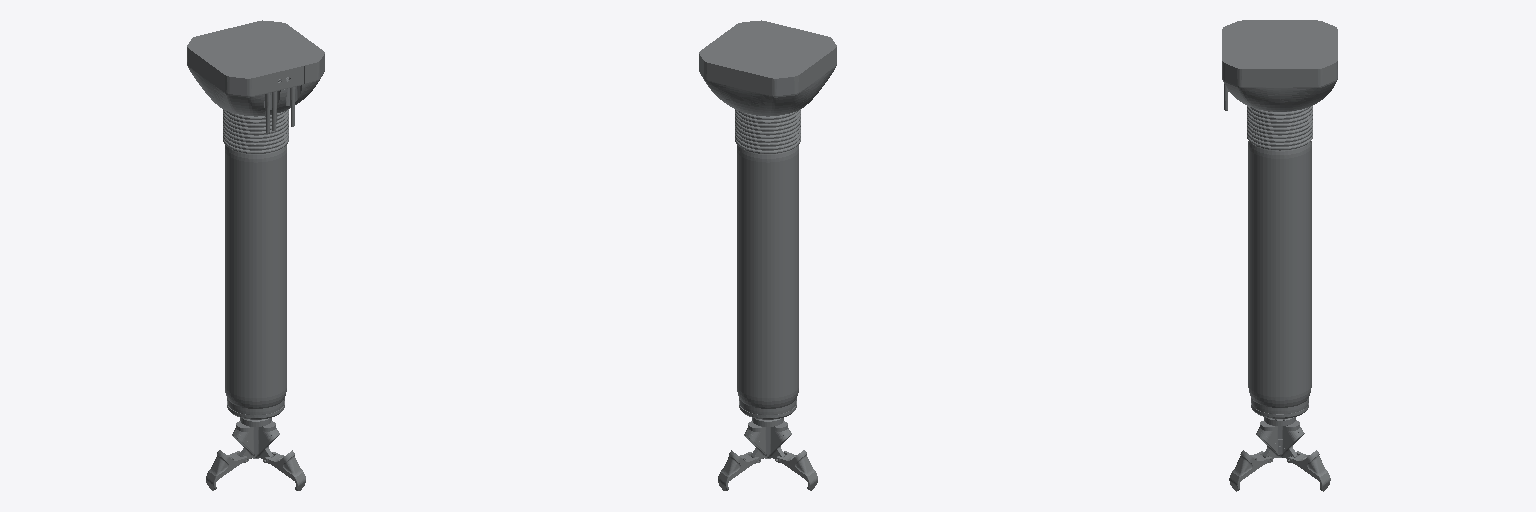
--- What the picture shows (computed from the rendered views, not written in the file) ---
Views: 3 orthographic renders of the robot side by side, from view 1: azimuth 30°, elevation 25°; view 2: azimuth 150°, elevation 25°; view 3: azimuth 270°, elevation 25°.
Model kn800RigidKE with 30 links and 29 joints (22 revolute, 5 prismatic, 2 fixed), rooted at world, posed all joints at 0.
Visible links, largest first — view 1: base_link, rotary_link_10, rotary_link_6, rotary_link_9, rotary_link_7, rotary_link_8, linear_link_5, link_gripper_base, finger_1, finger_3, link_BendingEnd; view 2: base_link, rotary_link_10, rotary_link_6, rotary_link_9, rotary_link_7, rotary_link_8, linear_link_5, link_gripper_base, finger_1, finger_2, link_BendingEnd; view 3: base_link, rotary_link_10, rotary_link_6, rotary_link_9, rotary_link_8, rotary_link_7, linear_link_5, link_gripper_base, finger_3, finger_2, link_BendingEnd.
Boxes of the visible links, x1,y1,x2,y2 form: base_link: (187,20,324,132); rotary_link_10: (225,341,286,408); rotary_link_6: (225,145,286,209); rotary_link_9: (225,294,286,350); rotary_link_7: (225,200,286,256); rotary_link_8: (225,247,286,303); linear_link_5: (223,111,288,153); link_gripper_base: (232,418,279,458); finger_1: (206,450,248,490); finger_3: (263,450,305,490); link_BendingEnd: (227,398,284,419); base_link: (699,20,836,115); rotary_link_10: (737,341,798,408); rotary_link_6: (737,145,798,209); rotary_link_9: (737,294,798,350); rotary_link_7: (737,200,798,256); rotary_link_8: (737,247,798,303); linear_link_5: (735,111,800,153); link_gripper_base: (744,418,791,458); finger_1: (775,450,817,490); finger_2: (718,450,760,490); link_BendingEnd: (739,398,796,419); base_link: (1222,20,1337,111); rotary_link_10: (1248,338,1311,407); rotary_link_6: (1248,141,1311,206); rotary_link_9: (1248,290,1311,349); rotary_link_8: (1248,243,1311,301); rotary_link_7: (1248,195,1311,253); linear_link_5: (1247,108,1312,150); link_gripper_base: (1256,417,1304,458); finger_3: (1229,450,1272,491); finger_2: (1287,450,1330,491); link_BendingEnd: (1251,398,1308,418).
Bounding box of the posed robot: 0.272 × 0.272 × 1.13 m (x, y, z).
16 mesh visuals loaded from 6 distinct referenced files (6 binary STL).

The robot description file, URDF, robot "kn800RigidKE":
<?xml version="1.0" ?>
<!-- =================================================================================== -->
<!-- |    This document was autogenerated by xacro from kn800RigidKE.urdf.xacro        | -->
<!-- |    EDITING THIS FILE BY HAND IS NOT RECOMMENDED                                 | -->
<!-- =================================================================================== -->
<robot name="kn800RigidKE">
  <material name="black">
    <color rgba="0.0 0.0 0.0 1.0"/>
  </material>
  <material name="blue">
    <color rgba="0.0 0.0 0.8 1.0"/>
  </material>
  <material name="green">
    <color rgba="0.0 0.8 0.0 1.0"/>
  </material>
  <material name="grey">
    <color rgba="0.2 0.2 0.2 1.0"/>
  </material>
  <material name="orange">
    <color rgba="1.0 0.4235294117647059 0.0392156862745098 1.0"/>
  </material>
  <material name="brown">
    <color rgba="0.8705882352941177 0.8117647058823529 0.7647058823529411 1.0"/>
  </material>
  <material name="red">
    <color rgba="0.8 0.0 0.0 1.0"/>
  </material>
  <material name="white">
    <color rgba="1.0 1.0 1.0 1.0"/>
  </material>
  <material name="aluminium">
    <color rgba="0.5176470588235295 0.5294117647058824 0.5372549019607843 1.0"/>
  </material>
  <link name="world"/>
  <joint name="arm_base_fixed_joint" type="fixed">
    <parent link="world"/>
    <child link="base_link"/>
    <origin rpy="0 3.141592653589793 0" xyz="0 0 2"/>
  </joint>
  <link name="base_link">
    <visual>
      <origin rpy="0 0 0" xyz="0 0 0"/>
      <geometry>
        <mesh filename="package://wisson_description/meshes/kn800Base.STL"/>
      </geometry>
      <material name="aluminium"/>
    </visual>
    <inertial>
      <origin rpy="0 0 0" xyz="0 0 0"/>
      <mass value="0.127"/>
      <inertia ixx="0.00032197" ixy="0.0" ixz="0.0" iyy="0.00032197" iyz="0.0" izz="0.00064284"/>
    </inertial>
  </link>
  <joint name="elongation" type="prismatic">
    <parent link="base_link"/>
    <child link="linear_link_5"/>
    <axis xyz="0 0 1"/>
    <origin rpy="0 0 0" xyz="0 0 0.2"/>
    <limit effort="200" lower="0" upper="0.2" velocity="20"/>
    <dynamics damping="0.7" friction="0.3"/>
  </joint>
  <link name="linear_link_5">
    <visual>
      <geometry>
        <mesh filename="package://wisson_description/meshes/kn800LinearShell.STL"/>
      </geometry>
      <origin rpy="0 0 0" xyz="0 0 0"/>
      <material name="aluminium"/>
    </visual>
    <inertial>
      <origin rpy="0 0 0" xyz="0 0 0"/>
      <mass value="0.08"/>
      <inertia ixx="0.0000528" ixy="0.0" ixz="0.0" iyy=" 0.0000528" iyz="0.0" izz="0.0001055"/>
    </inertial>
  </link>
  <joint name="prismatic_shadow_1" type="prismatic">
    <parent link="base_link"/>
    <child link="linear_link_1"/>
    <axis xyz="0 0 1"/>
    <origin rpy="0 0 0" xyz="0 0 0.04"/>
    <mimic joint="elongation" multiplier="0.2" offset="0"/>
    <limit effort="200" lower="0" upper="0.04" velocity="20"/>
    <dynamics damping="0.7" friction="0.3"/>
  </joint>
  <link name="linear_link_1">
    <visual>
      <geometry>
        <mesh filename="package://wisson_description/meshes/kn800LinearShell.STL"/>
      </geometry>
      <origin rpy="0 0 0" xyz="0 0 0"/>
      <material name="aluminium"/>
    </visual>
    <inertial>
      <origin rpy="0 0 0" xyz="0 0 0"/>
      <mass value="0.08"/>
      <inertia ixx="0.0000528" ixy="0.0" ixz="0.0" iyy=" 0.0000528" iyz="0.0" izz="0.0001055"/>
    </inertial>
  </link>
  <joint name="prismatic_shadow_2" type="prismatic">
    <parent link="linear_link_1"/>
    <child link="linear_link_2"/>
    <axis xyz="0 0 1"/>
    <origin rpy="0 0 0" xyz="0 0 0.04"/>
    <mimic joint="elongation" multiplier="0.2" offset="0"/>
    <limit effort="200" lower="0" upper="0.04" velocity="20"/>
    <dynamics damping="0.7" friction="0.3"/>
  </joint>
  <link name="linear_link_2">
    <visual>
      <geometry>
        <mesh filename="package://wisson_description/meshes/kn800LinearShell.STL"/>
      </geometry>
      <origin rpy="0 0 0" xyz="0 0 0"/>
      <material name="aluminium"/>
    </visual>
    <inertial>
      <origin rpy="0 0 0" xyz="0 0 0"/>
      <mass value="0.08"/>
      <inertia ixx="0.0000528" ixy="0.0" ixz="0.0" iyy=" 0.0000528" iyz="0.0" izz="0.0001055"/>
    </inertial>
  </link>
  <joint name="prismatic_shadow_3" type="prismatic">
    <parent link="linear_link_2"/>
    <child link="linear_link_3"/>
    <axis xyz="0 0 1"/>
    <origin rpy="0 0 0" xyz="0 0 0.04"/>
    <mimic joint="elongation" multiplier="0.2" offset="0"/>
    <limit effort="200" lower="0" upper="0.04" velocity="20"/>
    <dynamics damping="0.7" friction="0.3"/>
  </joint>
  <link name="linear_link_3">
    <visual>
      <geometry>
        <mesh filename="package://wisson_description/meshes/kn800LinearShell.STL"/>
      </geometry>
      <origin rpy="0 0 0" xyz="0 0 0"/>
      <material name="aluminium"/>
    </visual>
    <inertial>
      <origin rpy="0 0 0" xyz="0 0 0"/>
      <mass value="0.08"/>
      <inertia ixx="0.0000528" ixy="0.0" ixz="0.0" iyy=" 0.0000528" iyz="0.0" izz="0.0001055"/>
    </inertial>
  </link>
  <joint name="prismatic_shadow_4" type="prismatic">
    <parent link="linear_link_3"/>
    <child link="linear_link_4"/>
    <axis xyz="0 0 1"/>
    <origin rpy="0 0 0" xyz="0 0 0.04"/>
    <mimic joint="elongation" multiplier="0.2" offset="0"/>
    <limit effort="200" lower="0" upper="0.04" velocity="20"/>
    <dynamics damping="0.7" friction="0.3"/>
  </joint>
  <link name="linear_link_4">
    <visual>
      <geometry>
        <mesh filename="package://wisson_description/meshes/kn800LinearShell.STL"/>
      </geometry>
      <origin rpy="0 0 0" xyz="0 0 0"/>
      <material name="aluminium"/>
    </visual>
    <inertial>
      <origin rpy="0 0 0" xyz="0 0 0"/>
      <mass value="0.08"/>
      <inertia ixx="0.0000528" ixy="0.0" ixz="0.0" iyy=" 0.0000528" iyz="0.0" izz="0.0001055"/>
    </inertial>
  </link>
  <joint name="orientation" type="revolute">
    <parent link="linear_link_5"/>
    <child link="phantom_link_6"/>
    <axis xyz="0 0 1"/>
    <origin rpy="0 0 0" xyz="0 0 0.062"/>
    <limit effort="200" lower="-6.283185307179586" upper="6.283185307179586" velocity="20"/>
    <dynamics damping="0.7" friction="0.3"/>
  </joint>
  <link name="phantom_link_6">
    <visual>
      <geometry>
        <cylinder length="0.0001" radius="0.0001"/>
      </geometry>
      <origin rpy="0 0 0" xyz="0 0 0"/>
      <material name="aluminium"/>
    </visual>
    <inertial>
      <origin rpy="0 0 0" xyz="0 0 0"/>
      <mass value="0.08"/>
      <inertia ixx="0.0000528" ixy="0.0" ixz="0.0" iyy=" 0.0000528" iyz="0.0" izz="0.0001055"/>
    </inertial>
  </link>
  <joint name="bending" type="revolute">
    <parent link="phantom_link_6"/>
    <child link="phantom_link_999"/>
    <axis xyz="0 1 0"/>
    <origin rpy="0 0 0" xyz="0 0 0"/>
    <limit effort="200" lower="-3.141592653589793" upper="3.141592653589793" velocity="20"/>
    <dynamics damping="0.7" friction="0.3"/>
  </joint>
  <link name="phantom_link_999">
    <visual>
      <geometry>
        <cylinder length="0.0001" radius="0.0001"/>
      </geometry>
      <origin rpy="0 0 0" xyz="0 0 0"/>
      <material name="aluminium"/>
    </visual>
    <inertial>
      <origin rpy="0 0 0" xyz="0 0 0"/>
      <mass value="0.08"/>
      <inertia ixx="0.0000528" ixy="0.0" ixz="0.0" iyy=" 0.0000528" iyz="0.0" izz="0.0001055"/>
    </inertial>
  </link>
  <joint name="bending_shadow_1" type="revolute">
    <parent link="phantom_link_6"/>
    <child link="phantom_link_7"/>
    <axis xyz="0 1 0"/>
    <origin rpy="0 0 0" xyz="0 0 0"/>
    <mimic joint="bending" multiplier="0.16666666666666666" offset="0"/>
    <limit effort="200" lower="-0.5235987755982988" upper="0.5235987755982988" velocity="20"/>
    <dynamics damping="0.7" friction="0.3"/>
  </joint>
  <link name="phantom_link_7">
    <visual>
      <geometry>
        <cylinder length="0.0001" radius="0.0001"/>
      </geometry>
      <origin rpy="0 0 0" xyz="0 0 0"/>
      <material name="aluminium"/>
    </visual>
    <inertial>
      <origin rpy="0 0 0" xyz="0 0 0"/>
      <mass value="0.08"/>
      <inertia ixx="0.0000528" ixy="0.0" ixz="0.0" iyy=" 0.0000528" iyz="0.0" izz="0.0001055"/>
    </inertial>
  </link>
  <joint name="orientation_shadow_1_2" type="revolute">
    <parent link="phantom_link_7"/>
    <child link="rotary_link_6"/>
    <axis xyz="0 0 1"/>
    <origin rpy="0 0 0" xyz="0 0 0"/>
    <mimic joint="orientation" multiplier="-1" offset="0"/>
    <limit effort="200" lower="-6.283185307179586" upper="6.283185307179586" velocity="20"/>
    <dynamics damping="0.7" friction="0.3"/>
  </joint>
  <link name="rotary_link_6">
    <visual>
      <geometry>
        <mesh filename="package://wisson_description/meshes/kn800BendingShell.STL"/>
      </geometry>
      <origin rpy="0 0 0" xyz="0 0 0.062"/>
      <material name="aluminium"/>
    </visual>
    <inertial>
      <origin rpy="0 0 0" xyz="0 0 0.062"/>
      <mass value="0.08"/>
      <inertia ixx="0.0000528" ixy="0.0" ixz="0.0" iyy=" 0.0000528" iyz="0.0" izz="0.0001055"/>
    </inertial>
  </link>
  <joint name="orientation_shadow_2_1" type="revolute">
    <parent link="rotary_link_6"/>
    <child link="phantom_link_8"/>
    <axis xyz="0 0 1"/>
    <origin rpy="0 0 0" xyz="0 0 0.124"/>
    <mimic joint="orientation" multiplier="1" offset="0"/>
    <limit effort="200" lower="-6.283185307179586" upper="6.283185307179586" velocity="20"/>
    <dynamics damping="0.7" friction="0.3"/>
  </joint>
  <link name="phantom_link_8">
    <visual>
      <geometry>
        <cylinder length="0.0001" radius="0.0001"/>
      </geometry>
      <origin rpy="0 0 0" xyz="0 0 0"/>
      <material name="aluminium"/>
    </visual>
    <inertial>
      <origin rpy="0 0 0" xyz="0 0 0"/>
      <mass value="0.08"/>
      <inertia ixx="0.0000528" ixy="0.0" ixz="0.0" iyy=" 0.0000528" iyz="0.0" izz="0.0001055"/>
    </inertial>
  </link>
  <joint name="bending_shadow_2" type="revolute">
    <parent link="phantom_link_8"/>
    <child link="phantom_link_9"/>
    <axis xyz="0 1 0"/>
    <origin rpy="0 0 0" xyz="0 0 0"/>
    <mimic joint="bending" multiplier="0.16666666666666666" offset="0"/>
    <limit effort="200" lower="-0.5235987755982988" upper="0.5235987755982988" velocity="20"/>
    <dynamics damping="0.7" friction="0.3"/>
  </joint>
  <link name="phantom_link_9">
    <visual>
      <geometry>
        <cylinder length="0.0001" radius="0.0001"/>
      </geometry>
      <origin rpy="0 0 0" xyz="0 0 0"/>
      <material name="aluminium"/>
    </visual>
    <inertial>
      <origin rpy="0 0 0" xyz="0 0 0"/>
      <mass value="0.08"/>
      <inertia ixx="0.0000528" ixy="0.0" ixz="0.0" iyy=" 0.0000528" iyz="0.0" izz="0.0001055"/>
    </inertial>
  </link>
  <joint name="orientation_shadow_2_2" type="revolute">
    <parent link="phantom_link_9"/>
    <child link="rotary_link_7"/>
    <axis xyz="0 0 1"/>
    <origin rpy="0 0 0" xyz="0 0 0"/>
    <mimic joint="orientation" multiplier="-1" offset="0"/>
    <limit effort="200" lower="-6.283185307179586" upper="6.283185307179586" velocity="20"/>
    <dynamics damping="0.7" friction="0.3"/>
  </joint>
  <link name="rotary_link_7">
    <visual>
      <geometry>
        <mesh filename="package://wisson_description/meshes/kn800BendingShell.STL"/>
      </geometry>
      <origin rpy="0 0 0" xyz="0 0 0.062"/>
      <material name="aluminium"/>
    </visual>
    <inertial>
      <origin rpy="0 0 0" xyz="0 0 0.062"/>
      <mass value="0.08"/>
      <inertia ixx="0.0000528" ixy="0.0" ixz="0.0" iyy=" 0.0000528" iyz="0.0" izz="0.0001055"/>
    </inertial>
  </link>
  <joint name="orientation_shadow_3_1" type="revolute">
    <parent link="rotary_link_7"/>
    <child link="phantom_link_10"/>
    <axis xyz="0 0 1"/>
    <origin rpy="0 0 0" xyz="0 0 0.124"/>
    <mimic joint="orientation" multiplier="1" offset="0"/>
    <limit effort="200" lower="-6.283185307179586" upper="6.283185307179586" velocity="20"/>
    <dynamics damping="0.7" friction="0.3"/>
  </joint>
  <link name="phantom_link_10">
    <visual>
      <geometry>
        <cylinder length="0.0001" radius="0.0001"/>
      </geometry>
      <origin rpy="0 0 0" xyz="0 0 0"/>
      <material name="aluminium"/>
    </visual>
    <inertial>
      <origin rpy="0 0 0" xyz="0 0 0"/>
      <mass value="0.08"/>
      <inertia ixx="0.0000528" ixy="0.0" ixz="0.0" iyy=" 0.0000528" iyz="0.0" izz="0.0001055"/>
    </inertial>
  </link>
  <joint name="bending_shadow_3" type="revolute">
    <parent link="phantom_link_10"/>
    <child link="phantom_link_11"/>
    <axis xyz="0 1 0"/>
    <origin rpy="0 0 0" xyz="0 0 0"/>
    <mimic joint="bending" multiplier="0.16666666666666666" offset="0"/>
    <limit effort="200" lower="-0.5235987755982988" upper="0.5235987755982988" velocity="20"/>
    <dynamics damping="0.7" friction="0.3"/>
  </joint>
  <link name="phantom_link_11">
    <visual>
      <geometry>
        <cylinder length="0.0001" radius="0.0001"/>
      </geometry>
      <origin rpy="0 0 0" xyz="0 0 0"/>
      <material name="aluminium"/>
    </visual>
    <inertial>
      <origin rpy="0 0 0" xyz="0 0 0"/>
      <mass value="0.08"/>
      <inertia ixx="0.0000528" ixy="0.0" ixz="0.0" iyy=" 0.0000528" iyz="0.0" izz="0.0001055"/>
    </inertial>
  </link>
  <joint name="orientation_shadow_3_2" type="revolute">
    <parent link="phantom_link_11"/>
    <child link="rotary_link_8"/>
    <axis xyz="0 0 1"/>
    <origin rpy="0 0 0" xyz="0 0 0"/>
    <mimic joint="orientation" multiplier="-1" offset="0"/>
    <limit effort="200" lower="-6.283185307179586" upper="6.283185307179586" velocity="20"/>
    <dynamics damping="0.7" friction="0.3"/>
  </joint>
  <link name="rotary_link_8">
    <visual>
      <geometry>
        <mesh filename="package://wisson_description/meshes/kn800BendingShell.STL"/>
      </geometry>
      <origin rpy="0 0 0" xyz="0 0 0.062"/>
      <material name="aluminium"/>
    </visual>
    <inertial>
      <origin rpy="0 0 0" xyz="0 0 0.062"/>
      <mass value="0.08"/>
      <inertia ixx="0.0000528" ixy="0.0" ixz="0.0" iyy=" 0.0000528" iyz="0.0" izz="0.0001055"/>
    </inertial>
  </link>
  <joint name="orientation_shadow_4_1" type="revolute">
    <parent link="rotary_link_8"/>
    <child link="phantom_link_12"/>
    <axis xyz="0 0 1"/>
    <origin rpy="0 0 0" xyz="0 0 0.124"/>
    <mimic joint="orientation" multiplier="1" offset="0"/>
    <limit effort="200" lower="-6.283185307179586" upper="6.283185307179586" velocity="20"/>
    <dynamics damping="0.7" friction="0.3"/>
  </joint>
  <link name="phantom_link_12">
    <visual>
      <geometry>
        <cylinder length="0.0001" radius="0.0001"/>
      </geometry>
      <origin rpy="0 0 0" xyz="0 0 0"/>
      <material name="aluminium"/>
    </visual>
    <inertial>
      <origin rpy="0 0 0" xyz="0 0 0"/>
      <mass value="0.08"/>
      <inertia ixx="0.0000528" ixy="0.0" ixz="0.0" iyy=" 0.0000528" iyz="0.0" izz="0.0001055"/>
    </inertial>
  </link>
  <joint name="bending_shadow_4" type="revolute">
    <parent link="phantom_link_12"/>
    <child link="phantom_link_13"/>
    <axis xyz="0 1 0"/>
    <origin rpy="0 0 0" xyz="0 0 0"/>
    <mimic joint="bending" multiplier="0.16666666666666666" offset="0"/>
    <limit effort="200" lower="-0.5235987755982988" upper="0.5235987755982988" velocity="20"/>
    <dynamics damping="0.7" friction="0.3"/>
  </joint>
  <link name="phantom_link_13">
    <visual>
      <geometry>
        <cylinder length="0.0001" radius="0.0001"/>
      </geometry>
      <origin rpy="0 0 0" xyz="0 0 0"/>
      <material name="aluminium"/>
    </visual>
    <inertial>
      <origin rpy="0 0 0" xyz="0 0 0"/>
      <mass value="0.08"/>
      <inertia ixx="0.0000528" ixy="0.0" ixz="0.0" iyy=" 0.0000528" iyz="0.0" izz="0.0001055"/>
    </inertial>
  </link>
  <joint name="orientation_shadow_4_2" type="revolute">
    <parent link="phantom_link_13"/>
    <child link="rotary_link_9"/>
    <axis xyz="0 0 1"/>
    <origin rpy="0 0 0" xyz="0 0 0"/>
    <mimic joint="orientation" multiplier="-1" offset="0"/>
    <limit effort="200" lower="-6.283185307179586" upper="6.283185307179586" velocity="20"/>
    <dynamics damping="0.7" friction="0.3"/>
  </joint>
  <link name="rotary_link_9">
    <visual>
      <geometry>
        <mesh filename="package://wisson_description/meshes/kn800BendingShell.STL"/>
      </geometry>
      <origin rpy="0 0 0" xyz="0 0 0.062"/>
      <material name="aluminium"/>
    </visual>
    <inertial>
      <origin rpy="0 0 0" xyz="0 0 0.062"/>
      <mass value="0.08"/>
      <inertia ixx="0.0000528" ixy="0.0" ixz="0.0" iyy=" 0.0000528" iyz="0.0" izz="0.0001055"/>
    </inertial>
  </link>
  <joint name="orientation_shadow_5_1" type="revolute">
    <parent link="rotary_link_9"/>
    <child link="phantom_link_14"/>
    <axis xyz="0 0 1"/>
    <origin rpy="0 0 0" xyz="0 0 0.124"/>
    <mimic joint="orientation" multiplier="1" offset="0"/>
    <limit effort="200" lower="-6.283185307179586" upper="6.283185307179586" velocity="20"/>
    <dynamics damping="0.7" friction="0.3"/>
  </joint>
  <link name="phantom_link_14">
    <visual>
      <geometry>
        <cylinder length="0.0001" radius="0.0001"/>
      </geometry>
      <origin rpy="0 0 0" xyz="0 0 0"/>
      <material name="aluminium"/>
    </visual>
    <inertial>
      <origin rpy="0 0 0" xyz="0 0 0"/>
      <mass value="0.08"/>
      <inertia ixx="0.0000528" ixy="0.0" ixz="0.0" iyy=" 0.0000528" iyz="0.0" izz="0.0001055"/>
    </inertial>
  </link>
  <joint name="bending_shadow_5" type="revolute">
    <parent link="phantom_link_14"/>
    <child link="phantom_link_15"/>
    <axis xyz="0 1 0"/>
    <origin rpy="0 0 0" xyz="0 0 0"/>
    <mimic joint="bending" multiplier="0.16666666666666666" offset="0"/>
    <limit effort="200" lower="-0.5235987755982988" upper="0.5235987755982988" velocity="20"/>
    <dynamics damping="0.7" friction="0.3"/>
  </joint>
  <link name="phantom_link_15">
    <visual>
      <geometry>
        <cylinder length="0.0001" radius="0.0001"/>
      </geometry>
      <origin rpy="0 0 0" xyz="0 0 0"/>
      <material name="aluminium"/>
    </visual>
    <inertial>
      <origin rpy="0 0 0" xyz="0 0 0"/>
      <mass value="0.08"/>
      <inertia ixx="0.0000528" ixy="0.0" ixz="0.0" iyy=" 0.0000528" iyz="0.0" izz="0.0001055"/>
    </inertial>
  </link>
  <joint name="orientation_shadow_5_2" type="revolute">
    <parent link="phantom_link_15"/>
    <child link="rotary_link_10"/>
    <axis xyz="0 0 1"/>
    <origin rpy="0 0 0" xyz="0 0 0"/>
    <mimic joint="orientation" multiplier="-1" offset="0"/>
    <limit effort="200" lower="-6.283185307179586" upper="6.283185307179586" velocity="20"/>
    <dynamics damping="0.7" friction="0.3"/>
  </joint>
  <link name="rotary_link_10">
    <visual>
      <geometry>
        <mesh filename="package://wisson_description/meshes/kn800BendingShell.STL"/>
      </geometry>
      <origin rpy="0 0 0" xyz="0 0 0.062"/>
      <material name="aluminium"/>
    </visual>
    <inertial>
      <origin rpy="0 0 0" xyz="0 0 0.062"/>
      <mass value="0.08"/>
      <inertia ixx="0.0000528" ixy="0.0" ixz="0.0" iyy=" 0.0000528" iyz="0.0" izz="0.0001055"/>
    </inertial>
  </link>
  <joint name="orientation_shadow_6_1" type="revolute">
    <parent link="rotary_link_10"/>
    <child link="phantom_link_16"/>
    <axis xyz="0 0 1"/>
    <origin rpy="0 0 0" xyz="0 0 0.124"/>
    <mimic joint="orientation" multiplier="1" offset="0"/>
    <limit effort="200" lower="-6.283185307179586" upper="6.283185307179586" velocity="20"/>
    <dynamics damping="0.7" friction="0.3"/>
  </joint>
  <link name="phantom_link_16">
    <visual>
      <geometry>
        <cylinder length="0.0001" radius="0.0001"/>
      </geometry>
      <origin rpy="0 0 0" xyz="0 0 0"/>
      <material name="aluminium"/>
    </visual>
    <inertial>
      <origin rpy="0 0 0" xyz="0 0 0"/>
      <mass value="0.08"/>
      <inertia ixx="0.0000528" ixy="0.0" ixz="0.0" iyy=" 0.0000528" iyz="0.0" izz="0.0001055"/>
    </inertial>
  </link>
  <joint name="bending_shadow_6" type="revolute">
    <parent link="phantom_link_16"/>
    <child link="phantom_link_17"/>
    <axis xyz="0 1 0"/>
    <origin rpy="0 0 0" xyz="0 0 0"/>
    <mimic joint="bending" multiplier="0.16666666666666666" offset="0"/>
    <limit effort="200" lower="-0.5235987755982988" upper="0.5235987755982988" velocity="20"/>
    <dynamics damping="0.7" friction="0.3"/>
  </joint>
  <link name="phantom_link_17">
    <visual>
      <geometry>
        <cylinder length="0.0001" radius="0.0001"/>
      </geometry>
      <origin rpy="0 0 0" xyz="0 0 0"/>
      <material name="aluminium"/>
    </visual>
    <inertial>
      <origin rpy="0 0 0" xyz="0 0 0"/>
      <mass value="0.08"/>
      <inertia ixx="0.0000528" ixy="0.0" ixz="0.0" iyy=" 0.0000528" iyz="0.0" izz="0.0001055"/>
    </inertial>
  </link>
  <joint name="orientation_shadow_6_2" type="revolute">
    <parent link="phantom_link_17"/>
    <child link="link_BendingEnd"/>
    <axis xyz="0 0 1"/>
    <origin rpy="0 0 0" xyz="0 0 0.062"/>
    <mimic joint="orientation" multiplier="-1" offset="0"/>
    <limit effort="200" lower="-6.283185307179586" upper="6.283185307179586" velocity="20"/>
    <dynamics damping="0.7" friction="0.3"/>
  </joint>
  <link name="link_BendingEnd">
    <visual>
      <origin rpy="0 0 0" xyz="0 0 0"/>
      <geometry>
        <mesh filename="package://wisson_description/meshes/kn800BendingShellEnd.STL"/>
      </geometry>
      <material name="aluminium"/>
    </visual>
    <inertial>
      <origin rpy="0 0 0" xyz="0 0 0"/>
      <mass value="0.127"/>
      <inertia ixx="0.00032197" ixy="0.0" ixz="0.0" iyy="0.00032197" iyz="0.0" izz="0.00064284"/>
    </inertial>
  </link>
  <joint name="gripperBaseFixed" type="fixed">
    <parent link="link_BendingEnd"/>
    <child link="link_gripper_base"/>
    <origin rpy="0 0 0" xyz="0 0 0"/>
  </joint>
  <link name="link_gripper_base">
    <visual>
      <origin rpy="0 0 0" xyz="0 0 0"/>
      <geometry>
        <mesh filename="package://wisson_description/meshes/kn800GripperBase.STL"/>
      </geometry>
      <material name="aluminium"/>
    </visual>
    <inertial>
      <origin rpy="0 0 0" xyz="0 0 0"/>
      <mass value="0.127"/>
      <inertia ixx="0.00032197" ixy="0.0" ixz="0.0" iyy="0.00032197" iyz="0.0" izz="0.00064284"/>
    </inertial>
  </link>
  <joint name="grasp" type="revolute">
    <parent link="link_gripper_base"/>
    <child link="finger_1"/>
    <origin rpy="0 0 0" xyz="0.037 0.0 0.118"/>
    <axis xyz="0 -1 0"/>
    <limit effort="200" lower="-0.18849555921538758" upper="1.2566370614359172" velocity="20"/>
    <dynamics damping="0.7" friction="0.3"/>
  </joint>
  <link name="finger_1">
    <visual>
      <origin rpy="0 0 0" xyz="0 0 0"/>
      <geometry>
        <mesh filename="package://wisson_description/meshes/kn800GripperFinger.STL"/>
      </geometry>
      <material name="aluminium"/>
    </visual>
    <inertial>
      <origin rpy="0 0 0" xyz="0 0 0"/>
      <mass value="0.127"/>
      <inertia ixx="0.00032197" ixy="0.0" ixz="0.0" iyy="0.00032197" iyz="0.0" izz="0.00064284"/>
    </inertial>
  </link>
  <joint name="grasp2" type="revolute">
    <parent link="link_gripper_base"/>
    <child link="finger_2"/>
    <origin rpy="0 0 2.0943951023931953" xyz="-0.018499999999999992 0.03204293994002423 0.12"/>
    <axis xyz="0 -1 0"/>
    <mimic joint="grasp" multiplier="1" offset="0"/>
    <limit effort="200" lower="-0.18849555921538758" upper="1.2566370614359172" velocity="20"/>
    <dynamics damping="0.7" friction="0.3"/>
  </joint>
  <link name="finger_2">
    <visual>
      <origin rpy="0 0 0" xyz="0 0 0"/>
      <geometry>
        <mesh filename="package://wisson_description/meshes/kn800GripperFinger.STL"/>
      </geometry>
      <material name="aluminium"/>
    </visual>
    <inertial>
      <origin rpy="0 0 0" xyz="0 0 0"/>
      <mass value="0.127"/>
      <inertia ixx="0.00032197" ixy="0.0" ixz="0.0" iyy="0.00032197" iyz="0.0" izz="0.00064284"/>
    </inertial>
  </link>
  <joint name="grasp3" type="revolute">
    <parent link="link_gripper_base"/>
    <child link="finger_3"/>
    <origin rpy="0 0 4.1887902047863905" xyz="-0.018500000000000016 -0.03204293994002422 0.12"/>
    <axis xyz="0 -1 0"/>
    <mimic joint="grasp" multiplier="1" offset="0"/>
    <limit effort="200" lower="-0.18849555921538758" upper="1.2566370614359172" velocity="20"/>
    <dynamics damping="0.7" friction="0.3"/>
  </joint>
  <link name="finger_3">
    <visual>
      <origin rpy="0 0 0" xyz="0 0 0"/>
      <geometry>
        <mesh filename="package://wisson_description/meshes/kn800GripperFinger.STL"/>
      </geometry>
      <material name="aluminium"/>
    </visual>
    <inertial>
      <origin rpy="0 0 0" xyz="0 0 0"/>
      <mass value="0.127"/>
      <inertia ixx="0.00032197" ixy="0.0" ixz="0.0" iyy="0.00032197" iyz="0.0" izz="0.00064284"/>
    </inertial>
  </link>
</robot>
